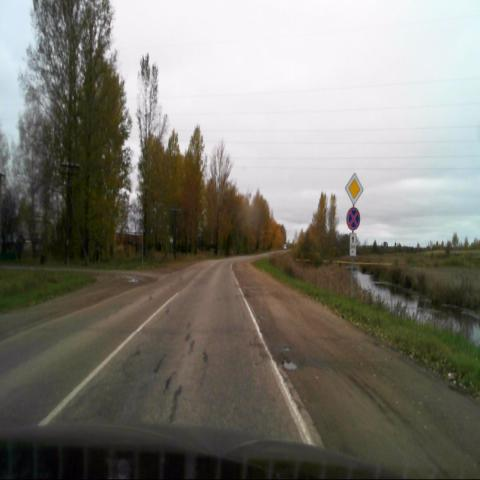2_1: (345, 173, 363, 205)
3_27: (346, 208, 359, 229)
8_2_2: (349, 233, 356, 257)
